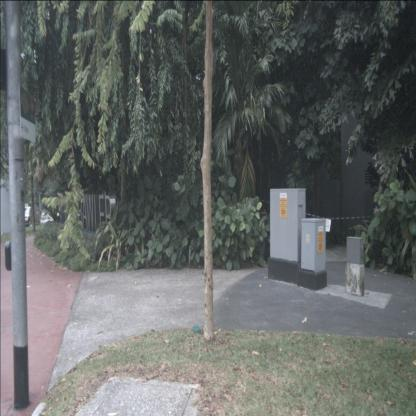vehicle-car: (17, 206, 34, 227)
